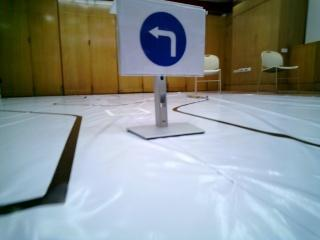left: (122, 0, 202, 70)
